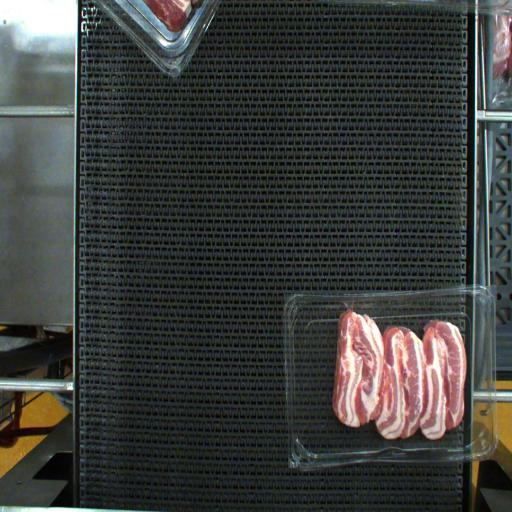packaging-error: (320, 282, 374, 335)
